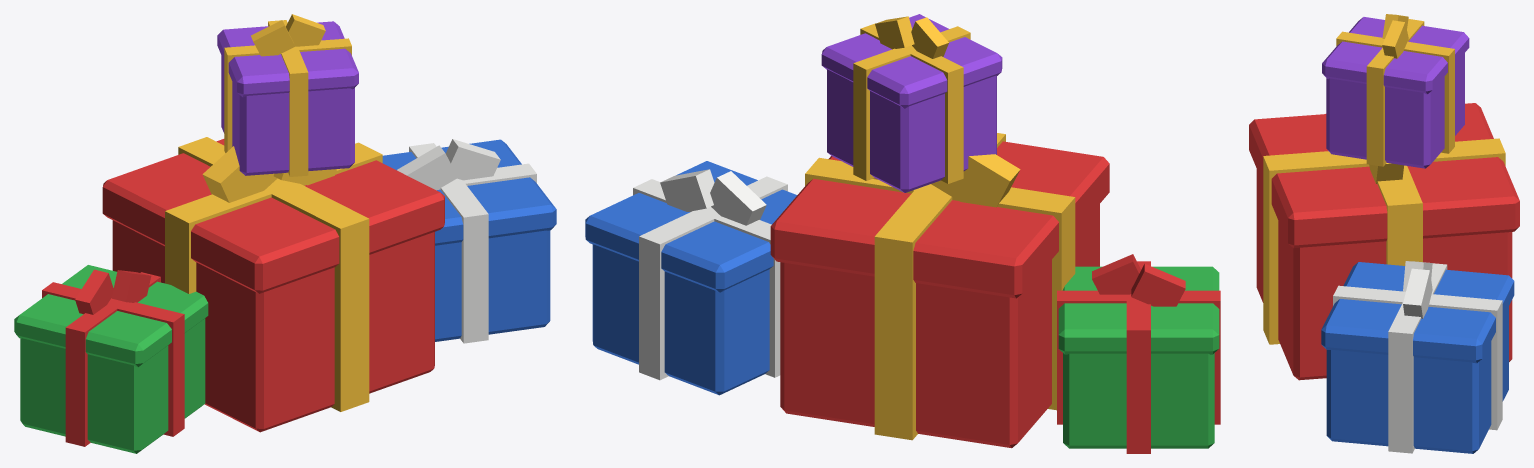
The model's file is GiftPile.fbx.
3 renders of one model, left to right at view 1: azimuth 30°, elevation 25°; view 2: azimuth 150°, elevation 25°; view 3: azimuth 270°, elevation 25°, orthographic. The views are drawn at different scales.
Visible parts, largest first — view 1: GiftPile; view 2: GiftPile; view 3: GiftPile.
Boxes of the visible parts, x1,y1,x2,y2 form: GiftPile: (14,14,556,453); GiftPile: (585,14,1220,453); GiftPile: (1249,14,1519,453).
Bounding box in the file's own units: 5.31 × 3.18 × 2.44.
1 material, 1 textured.
